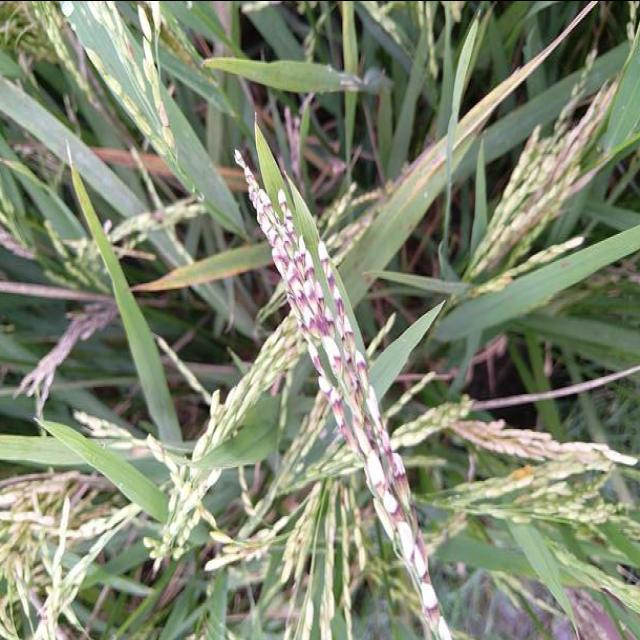Panicle Blight: (235, 147, 454, 639)
